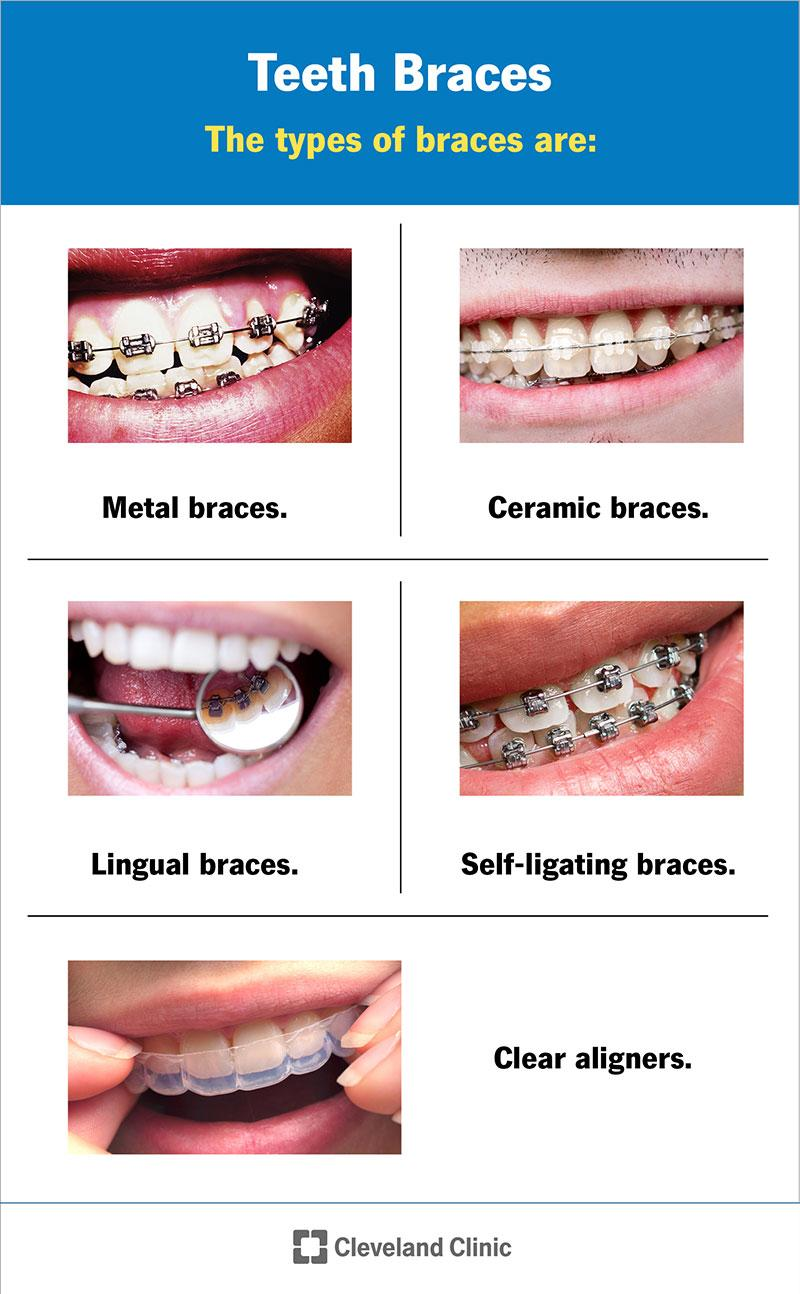Braces: (53, 273, 360, 433), (447, 632, 713, 767), (460, 300, 747, 403), (201, 667, 290, 720)
